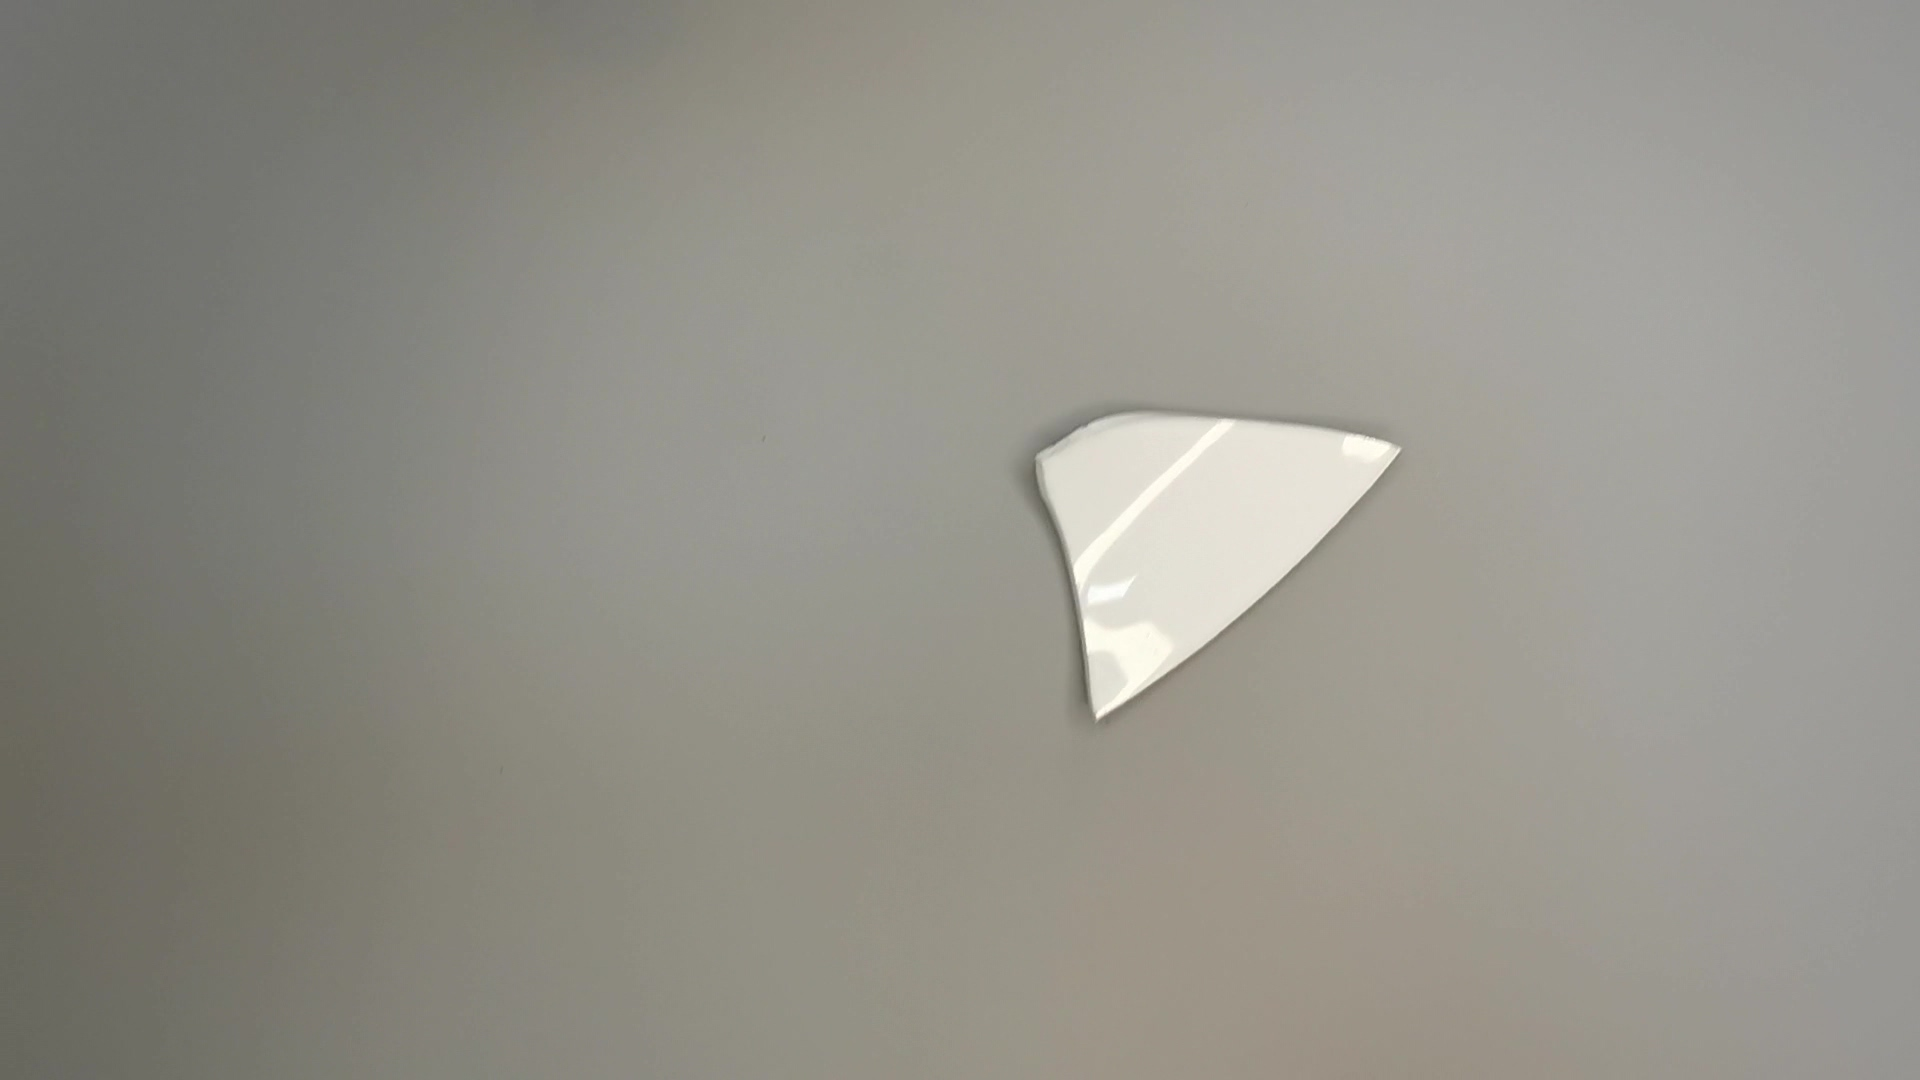ceramic: (1030, 405, 1406, 742)
